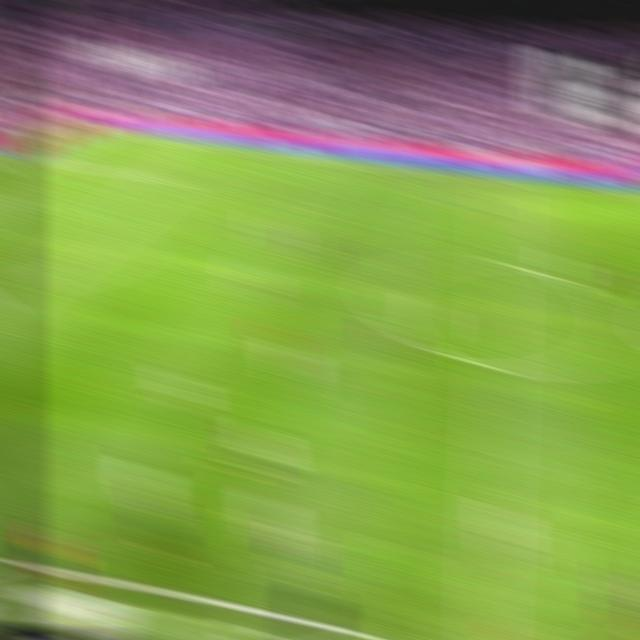bigarea_top_inner: (152, 168, 183, 188)
bottom_arc_area_intersection: (22, 268, 55, 291)
corner: (72, 119, 103, 135)
halfcircle_bottom: (477, 348, 514, 384)
halfcircle_top: (482, 248, 517, 278)
midline_top_intersection: (488, 169, 518, 189)
smallarea_top_inner: (2, 187, 31, 204)
top_arc_area_intersection: (102, 206, 132, 227)
